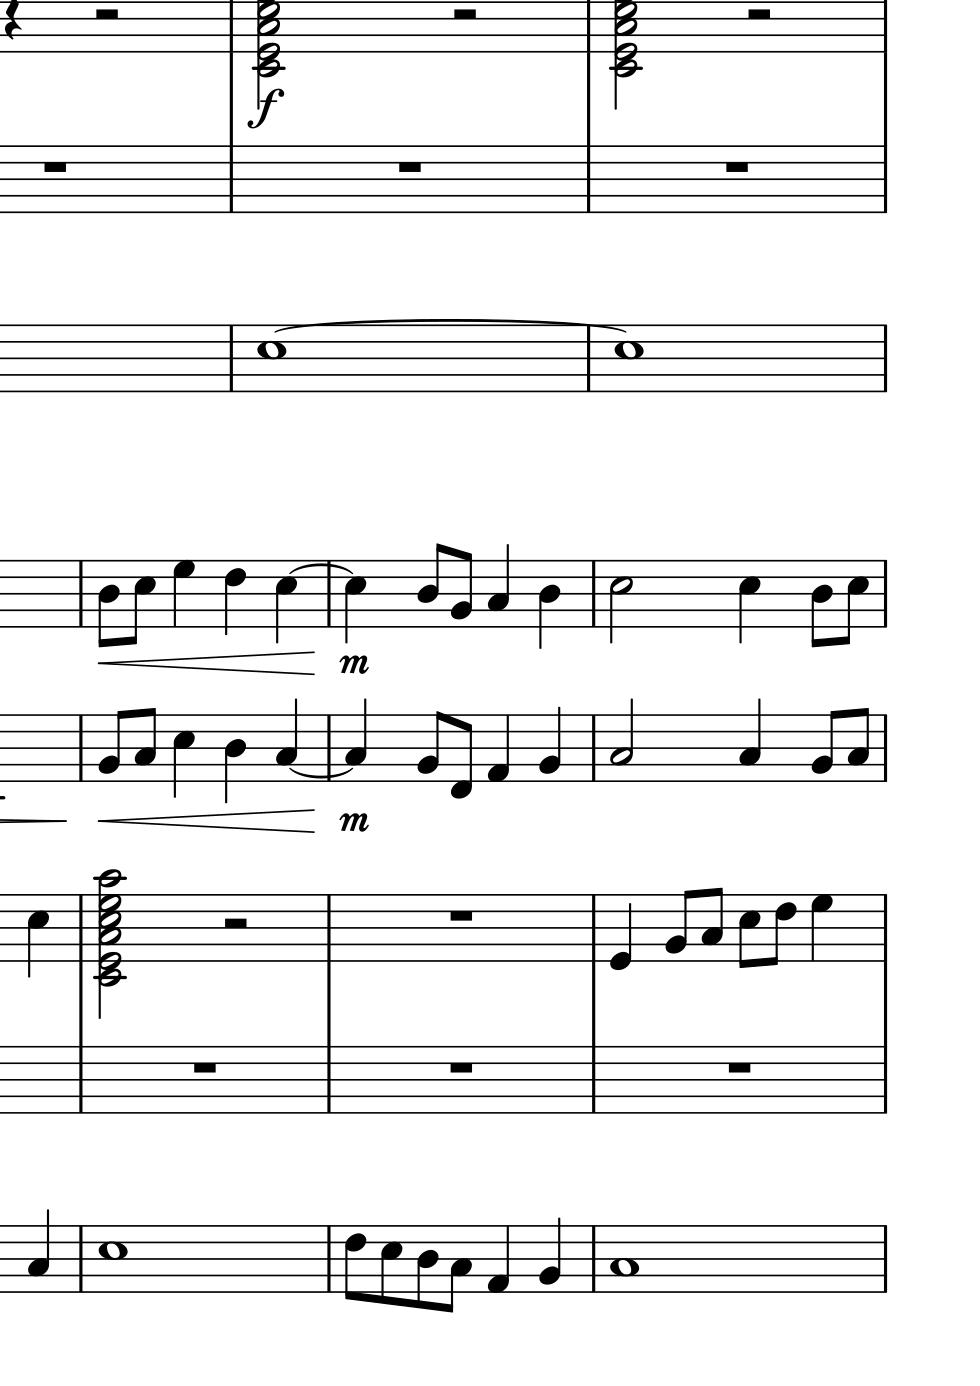1_3: (608, 1222, 638, 1294)
1_5: (256, 322, 287, 394), (97, 1223, 128, 1295), (613, 323, 645, 394)
2_3: (607, 697, 635, 780)
2_5: (606, 559, 633, 644)
4_0: (608, 892, 634, 971)
4_1: (485, 1223, 511, 1294)
4_2: (536, 1216, 563, 1294), (536, 705, 562, 783)
4_3: (485, 543, 511, 628), (343, 697, 368, 783), (273, 697, 298, 780), (737, 697, 762, 783), (27, 1208, 50, 1294)
4_4: (536, 558, 560, 649), (222, 713, 246, 804)
4_5: (342, 558, 368, 646), (272, 558, 298, 644), (736, 558, 762, 647), (24, 892, 49, 981), (170, 713, 194, 800)
4_6: (221, 558, 245, 638)
4_7: (169, 558, 195, 629), (808, 892, 833, 963)
8_-1: (448, 713, 474, 802)
8_1: (484, 713, 511, 784)
8_2: (663, 888, 694, 963), (414, 709, 445, 782), (97, 708, 126, 783), (809, 708, 838, 783), (449, 549, 473, 629)
8_3: (444, 1223, 472, 1314), (699, 887, 724, 964), (133, 706, 156, 784), (846, 706, 870, 784)
8_4: (415, 540, 448, 629), (97, 559, 120, 650), (415, 1224, 439, 1311), (809, 559, 832, 649)
8_5: (126, 558, 156, 648), (839, 558, 869, 647), (378, 1223, 402, 1306), (735, 892, 760, 970)
8_6: (767, 894, 797, 968), (340, 1223, 366, 1303)
Crescendo_hairpin: (98, 807, 317, 836), (98, 648, 317, 676)
Rests1: (38, 157, 70, 176), (393, 158, 425, 176), (189, 1059, 220, 1076), (722, 158, 752, 175), (447, 907, 476, 924), (447, 1059, 476, 1076), (724, 1059, 754, 1075)
Rests2: (89, 5, 123, 25), (449, 5, 480, 24), (743, 5, 774, 24), (220, 916, 251, 933)
Rests4: (3, 1, 22, 42)
Single_barline: (222, 324, 240, 392), (876, 324, 894, 392), (579, 328, 597, 391), (222, 146, 239, 213), (321, 560, 338, 627), (876, 1225, 893, 1292), (320, 1226, 337, 1293), (580, 147, 597, 213), (320, 715, 337, 780), (585, 561, 602, 626), (320, 895, 337, 960), (72, 1226, 89, 1291), (877, 145, 893, 213), (877, 560, 893, 628), (73, 895, 89, 962), (321, 1047, 337, 1113), (585, 895, 601, 961), (585, 1226, 601, 1292), (877, 1046, 892, 1115), (878, 714, 893, 782), (587, 1047, 601, 1115), (587, 715, 601, 782), (73, 561, 88, 627), (73, 1047, 88, 1112), (878, 894, 892, 962), (73, 715, 87, 782), (581, 1, 598, 53), (223, 1, 240, 52), (877, 1, 893, 52)
Slur: (272, 318, 624, 333), (286, 768, 354, 780), (292, 562, 355, 573)
f: (247, 86, 285, 127)
m: (334, 809, 372, 836)
mp: (337, 651, 370, 677)
